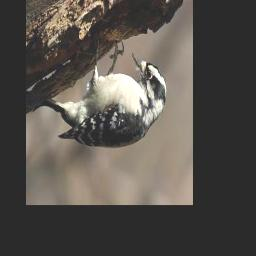Woodpecker: (40, 40, 166, 148)
